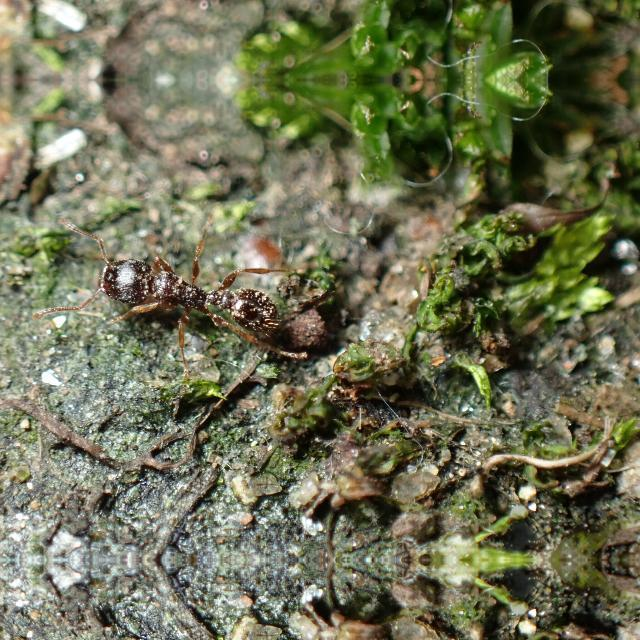Tetramorium: (79, 228, 293, 356)
